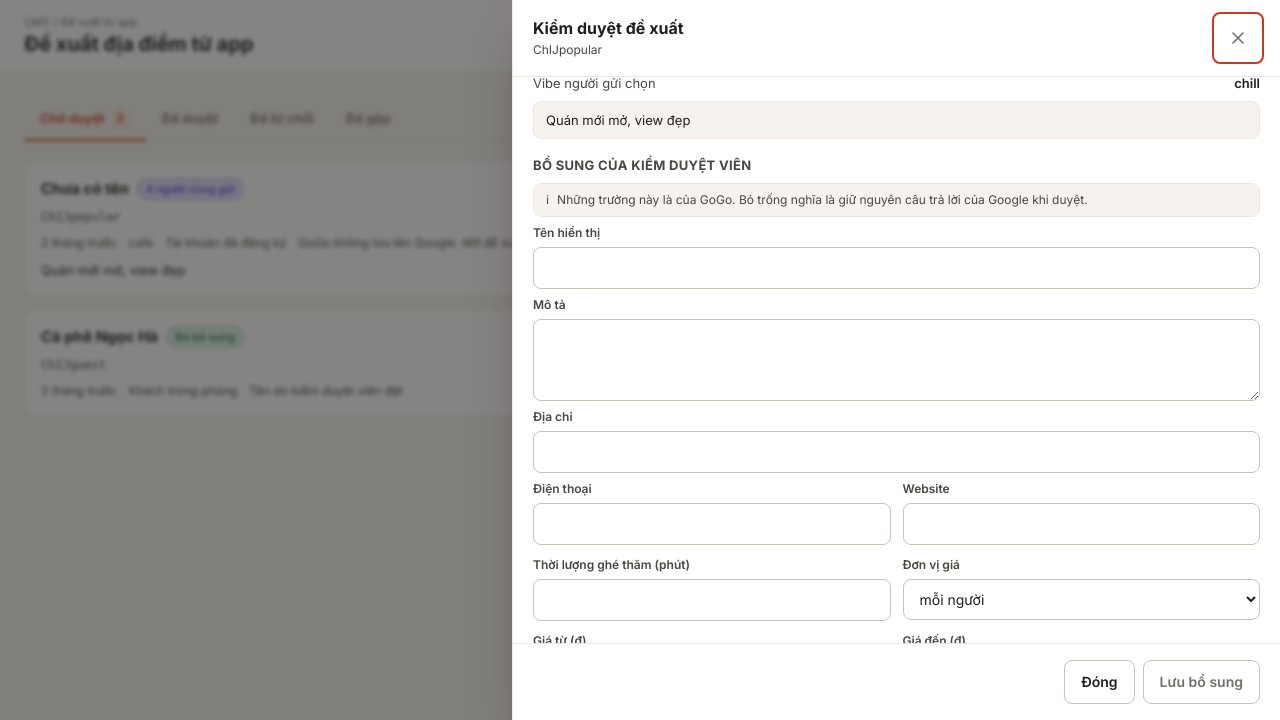
Test: supplementing is not deciding › refuses to close over unsaved edits
(page scrolled)
Type "Sân vườn" into the text box labelled "Mô tả" at (896, 360), box left=533, top=319, right=1260, bottom=401
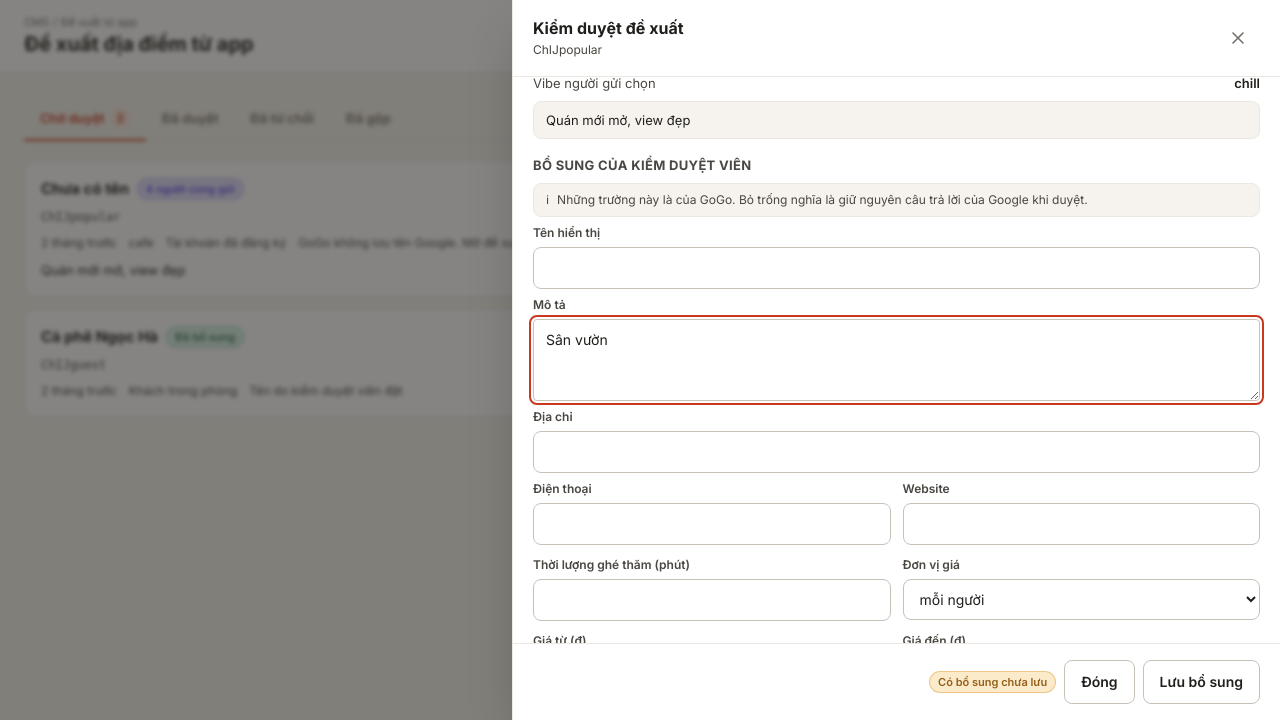
Result: the text "Có bổ sung chưa lưu" is shown at left=929, top=671, right=1056, bottom=693
Click the button "Đóng" at (1099, 682), box left=1064, top=660, right=1135, bottom=704
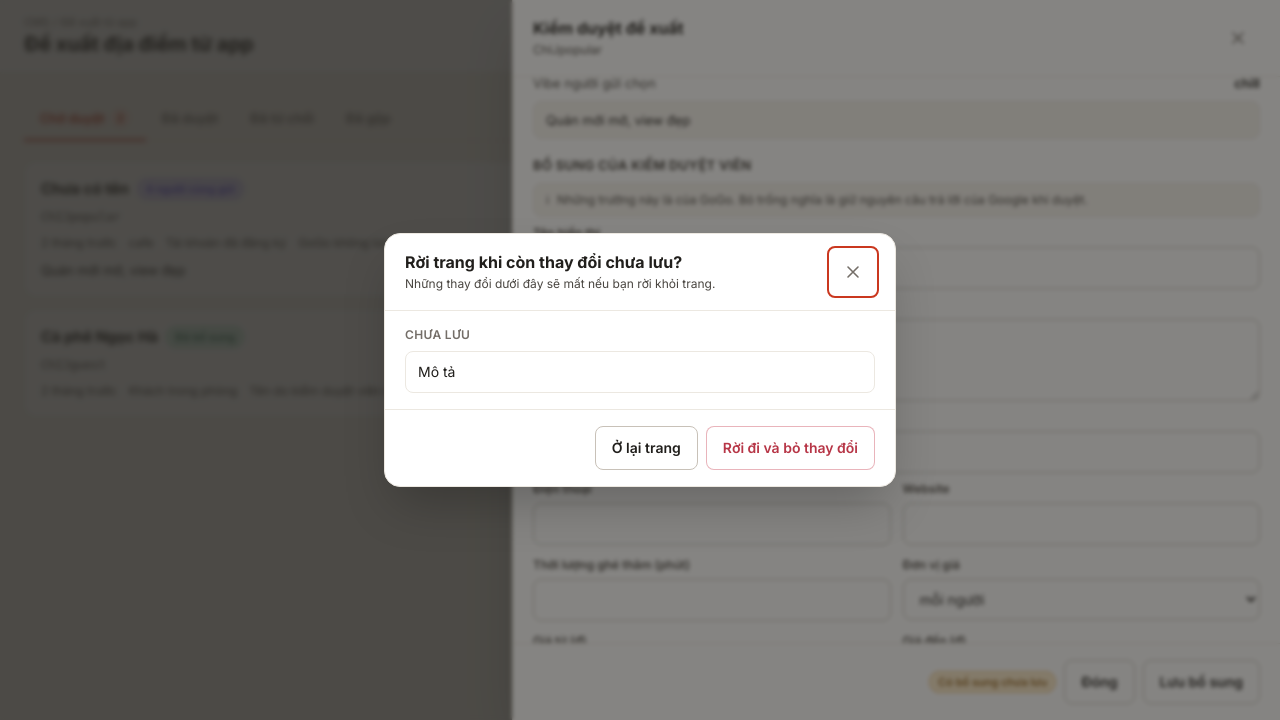
Expected: the dialog "Kiểm duyệt đề xuất" is shown, left=512, top=0, right=1279, bottom=719
Result: the list item "Mô tả" is shown at left=418, top=363, right=455, bottom=380
